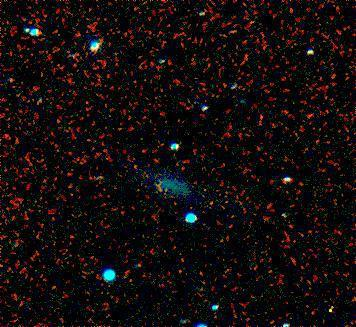star: (314, 293, 344, 323)
